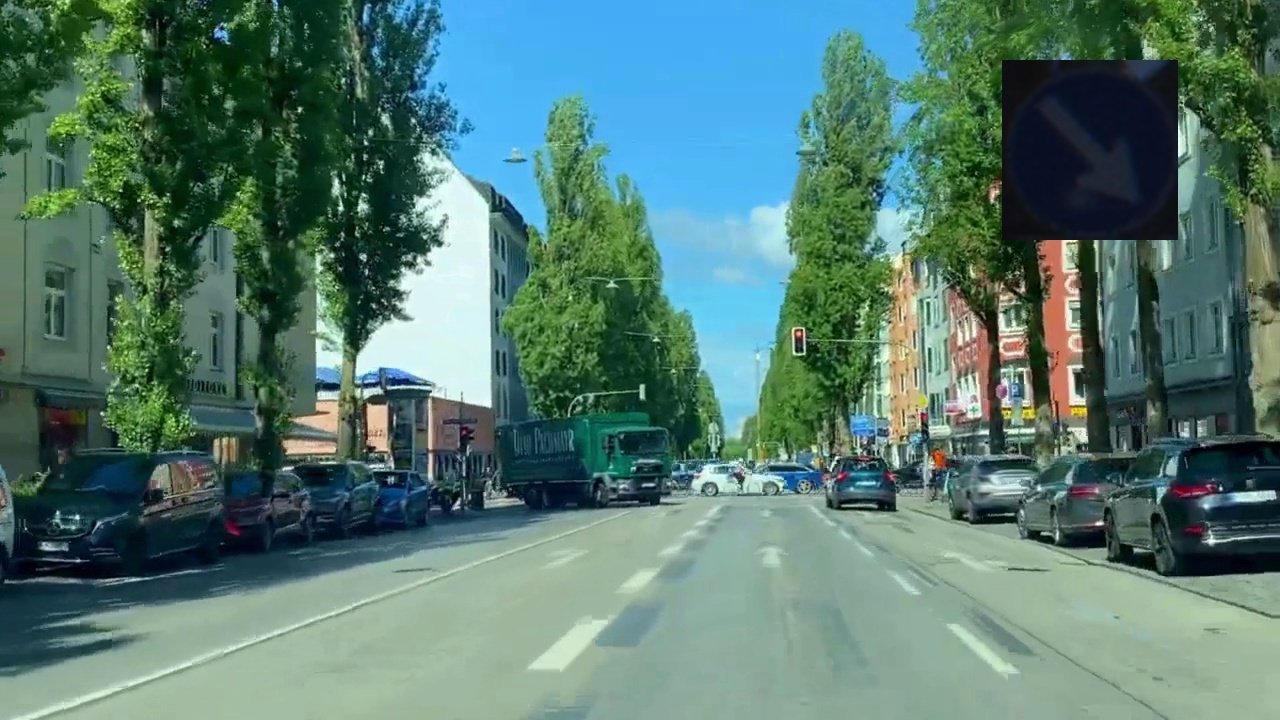Keep right: (1002, 60, 1178, 240)
